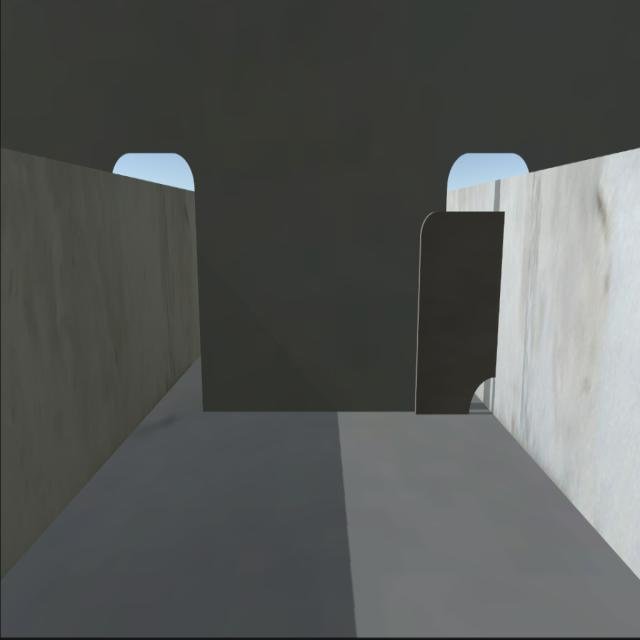fillet_hole: (461, 371, 498, 412)
fillet_yong_jeop_jang: (204, 399, 466, 421)
longi_yong_jeop_jang: (491, 210, 504, 376)
plate_CP05: (418, 204, 499, 412)
